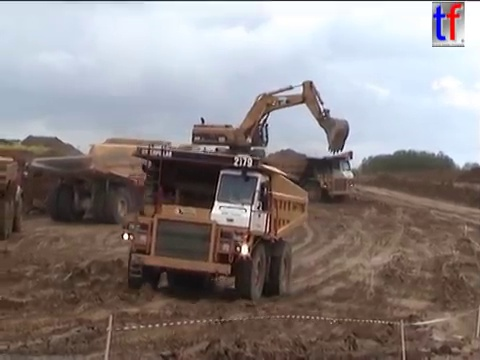excavator: (189, 78, 352, 169), (249, 155, 356, 204), (288, 150, 354, 177)
truck: (115, 142, 310, 302), (28, 142, 181, 225), (102, 136, 208, 166), (1, 153, 30, 242)
